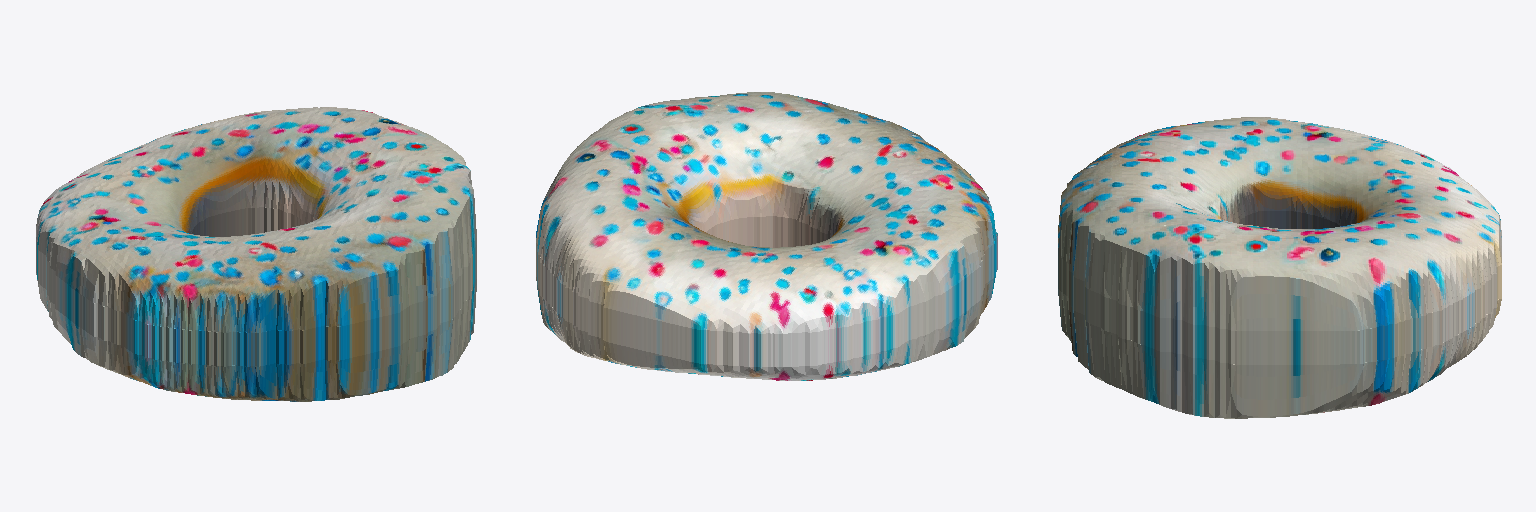
The picture shows the model from 3 angles: view 1: azimuth 30°, elevation 25°; view 2: azimuth 150°, elevation 25°; view 3: azimuth 270°, elevation 25°; orthographic projection.
Visible parts, largest first — view 1: Grid; view 2: Grid; view 3: Grid.
Part boxes in pixels (bbox=[...]): Grid: bbox=[36, 107, 476, 401]; Grid: bbox=[536, 92, 997, 380]; Grid: bbox=[1058, 117, 1501, 418].
Size of the model in its own units: 1.64 by 0.7 by 1.67.
Materials: 2 (1 with a texture image).